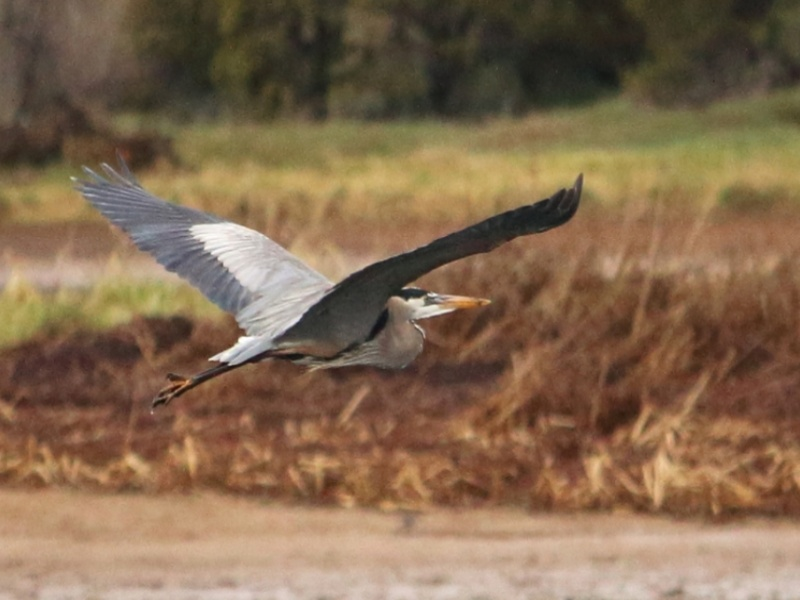heron: (67, 141, 587, 424)
